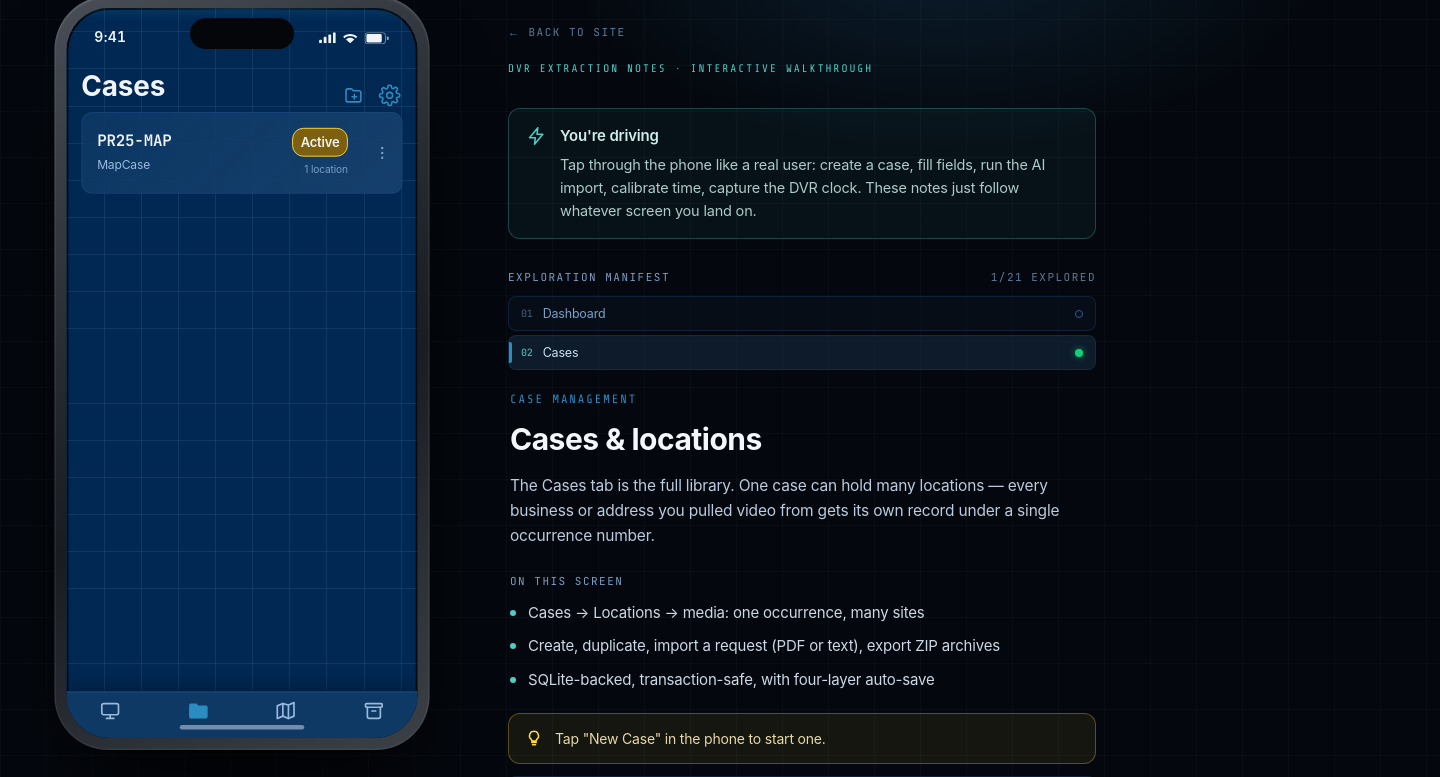
Test: DemoExperience — Export Map › claims only what it can know — the browser was ASKED (review R-2)
Click the button named "Map" at (286,712), box [242,698,330,727]
(page scrolled)
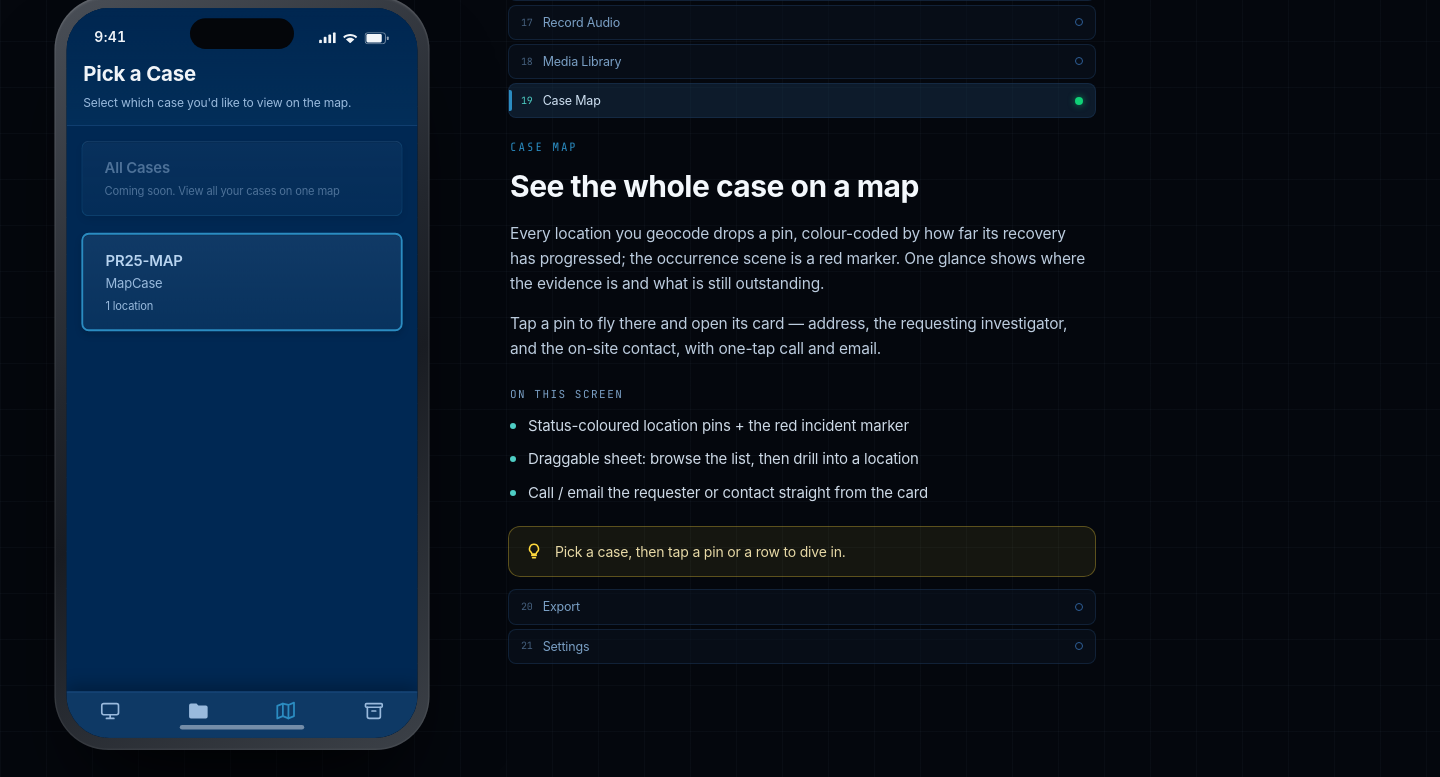
Click the text "MapCase" at (134,283), box [106,275,162,291]
(page scrolled)
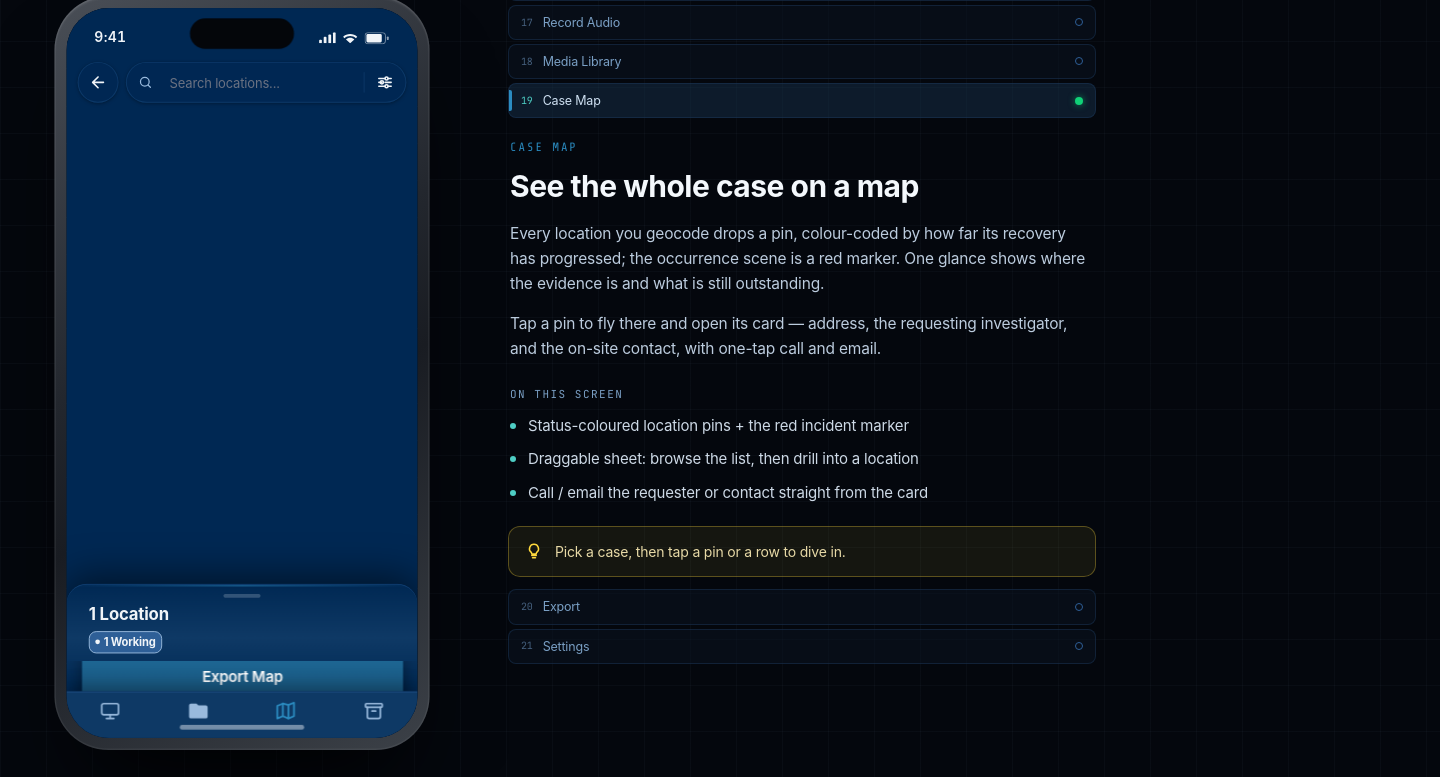
Click the button with test id "export-map-button" at (242,676), box [81,649,403,704]
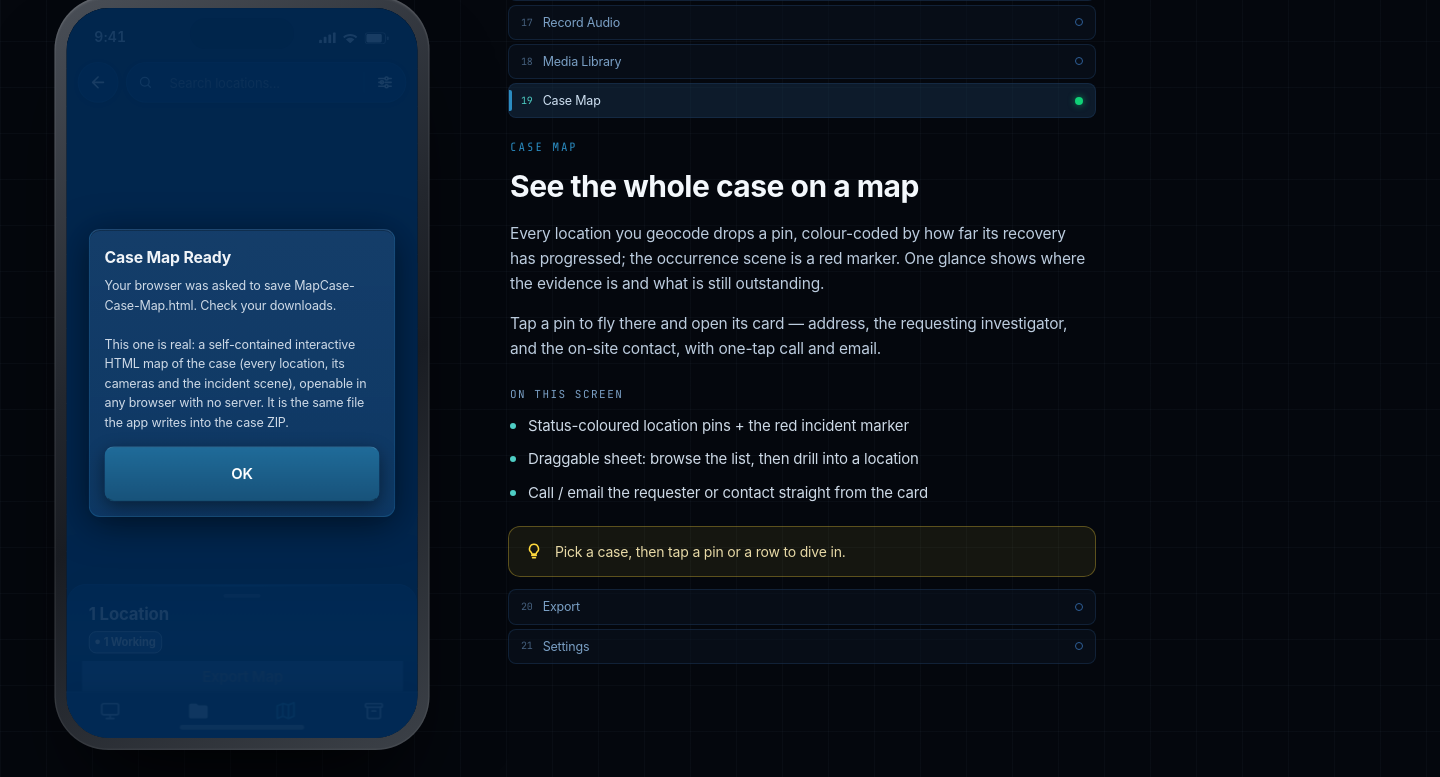
Check: the dialog does not show "exported successfully", box [89,229,395,517]
Check: the dialog shows "Case Map Ready", box [105,247,231,266]
Check: the dialog shows "Your browser was asked to save MapCase-Case-Map.html. Check your downloads.", box [105,278,366,429]
